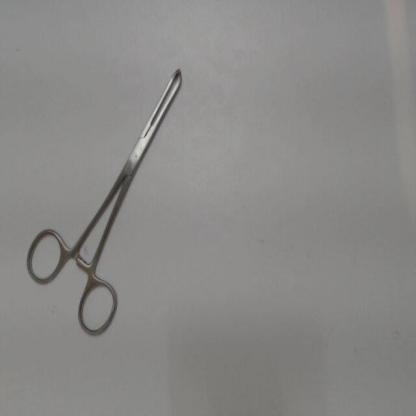Allis Tissue Forceps: (18, 57, 188, 349)
